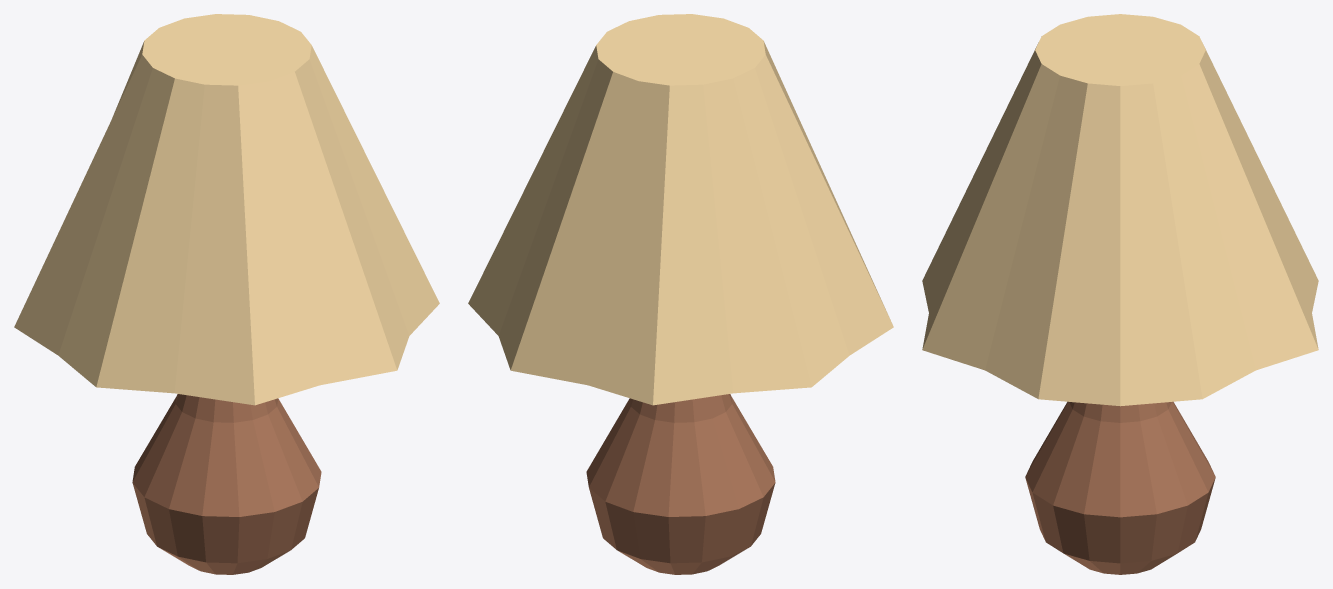
File: Table_Lamp_Model.fbx
3 views of the same model, side by side, from view 1: azimuth 30°, elevation 25°; view 2: azimuth 150°, elevation 25°; view 3: azimuth 270°, elevation 25° (orthographic).
Parts seen in each view (by area): view 1: Table_Light; view 2: Table_Light; view 3: Table_Light.
Boxes of the visible parts, x1,y1,x2,y2 form: Table_Light: (14,14,439,574); Table_Light: (468,14,893,574); Table_Light: (922,14,1318,574).
Bounding box in the file's own units: 80.08 × 113 × 83.38.
